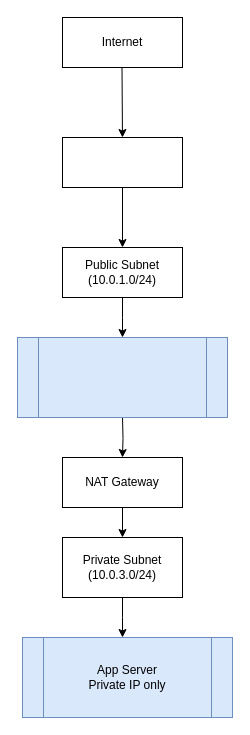
This 250x735 diagram has some shape labels left out. Here are the shapes that lost their labels. From the top down, the box of each, then its label:
(62, 136, 182, 188): Internet Gateway
(16, 336, 228, 418): Bastion Host Public IP
